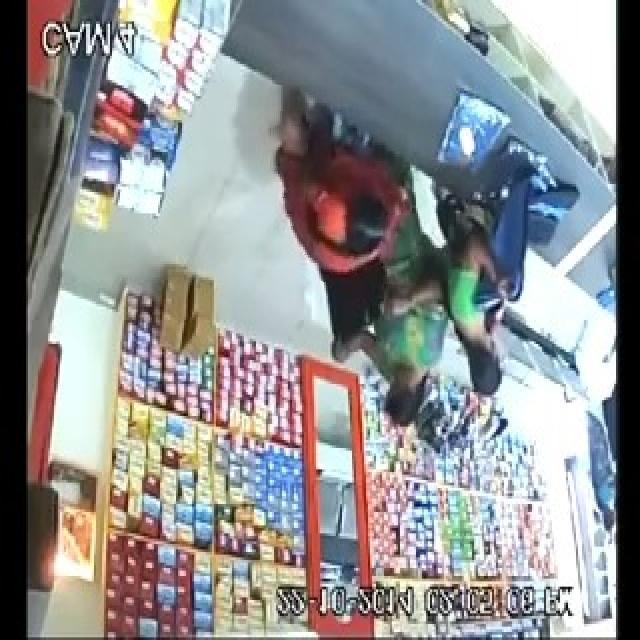Shoplifting: (268, 85, 410, 283)
